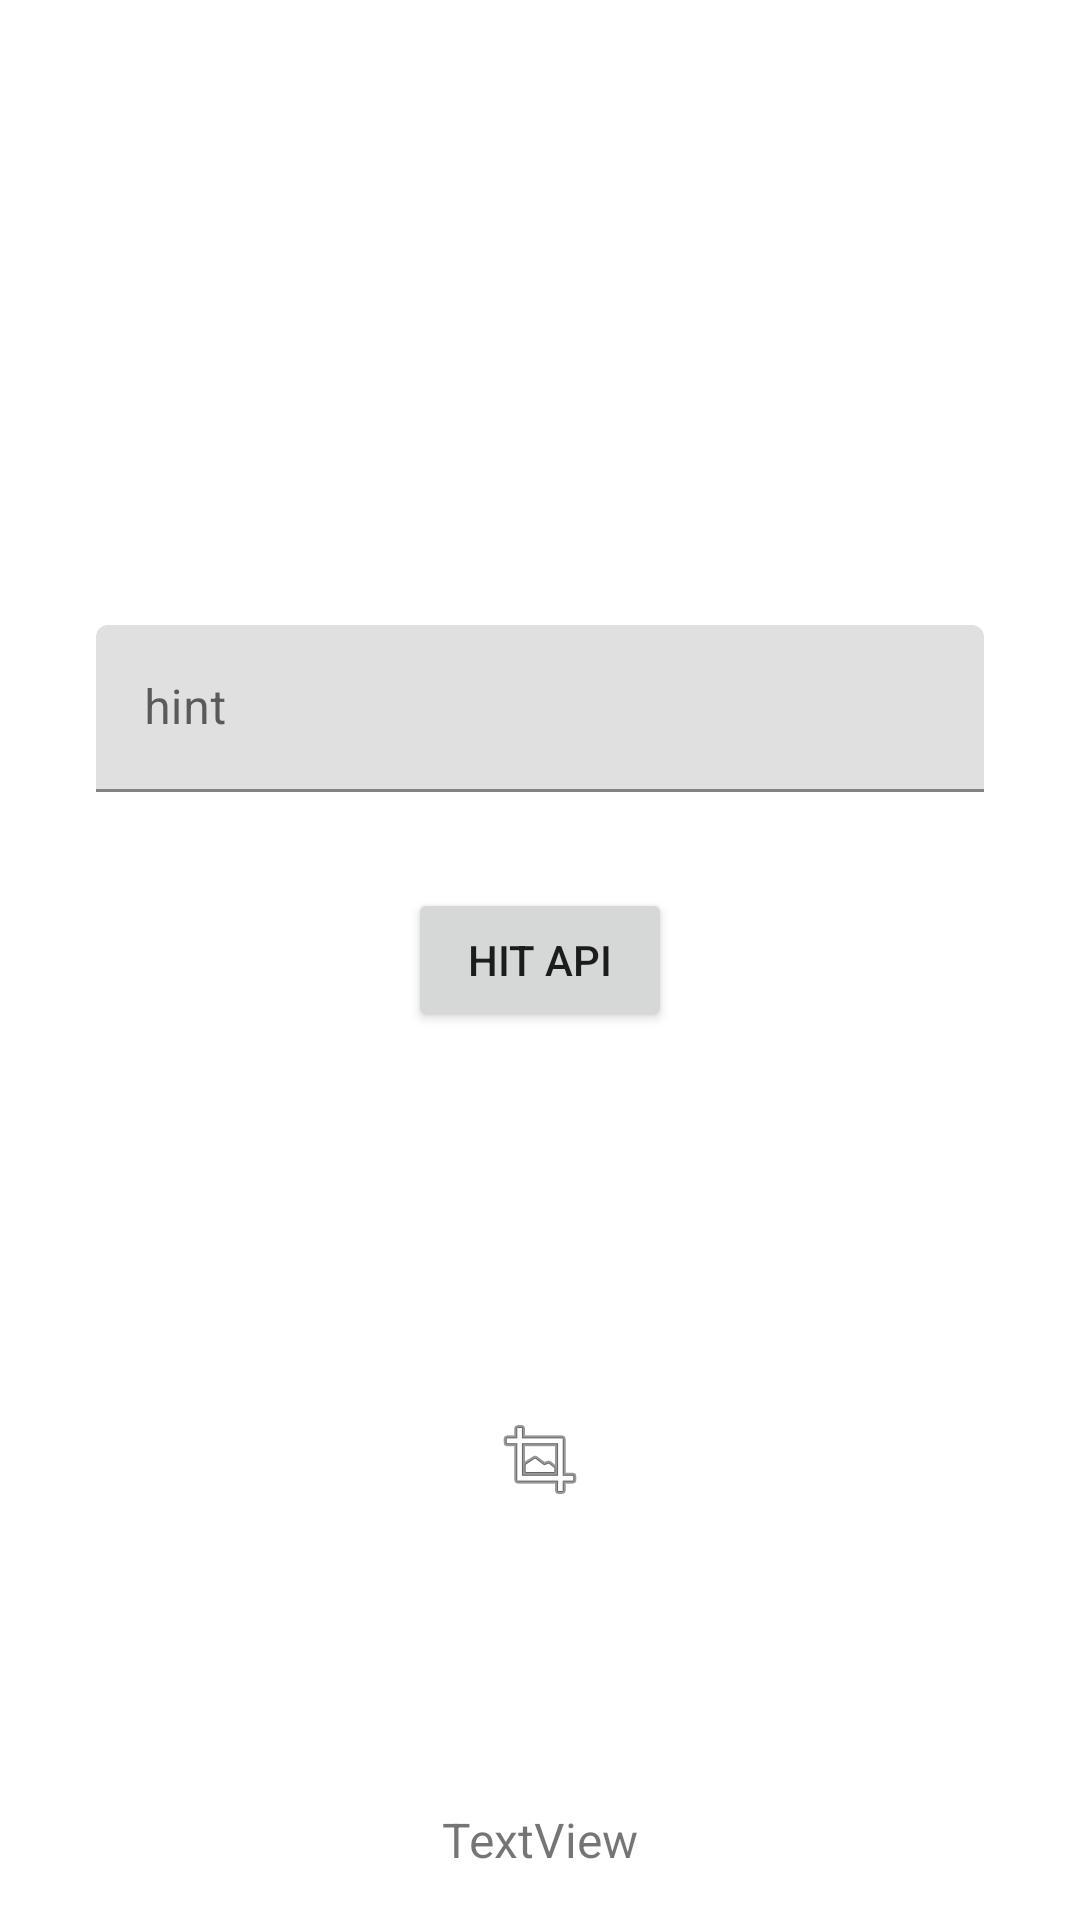

Named icons in this screenshot (1080 x 1920) and their centers, (x,y):
crop: (540,1459)
